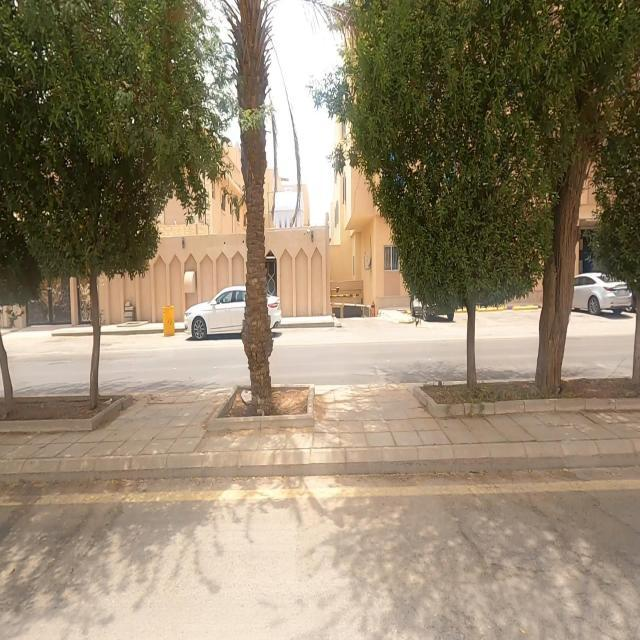debris: (214, 354, 276, 438)
